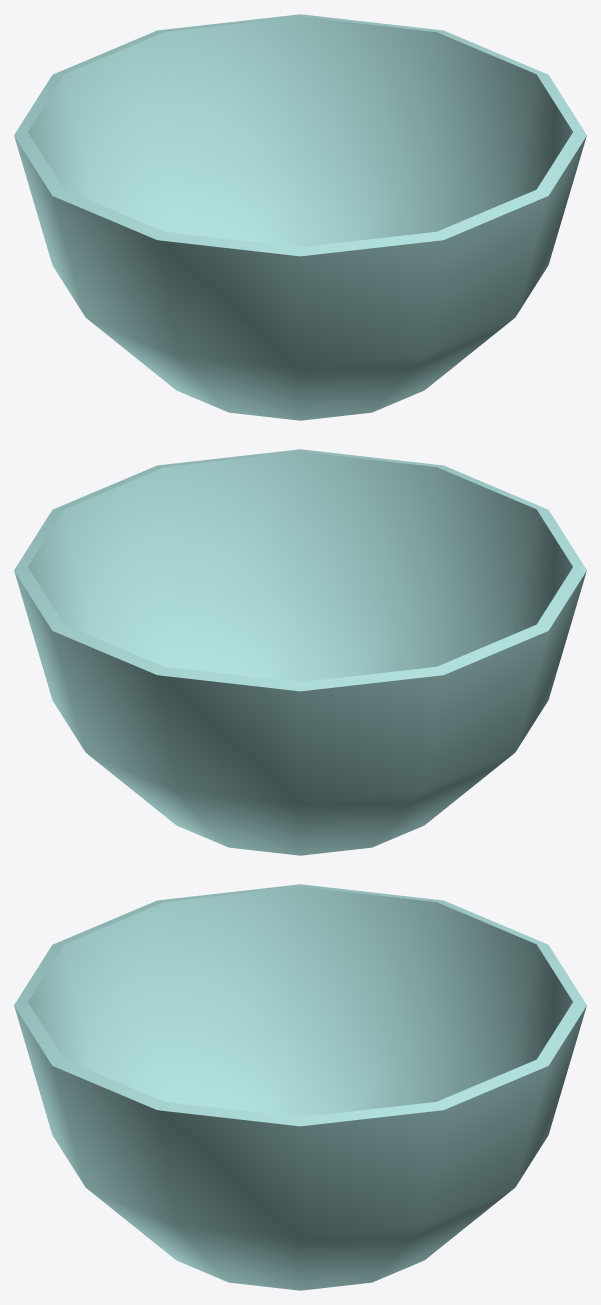
The model's file is WalkerShell.fbx.
3 renders of one model, top to bottom at view 1: azimuth 30°, elevation 25°; view 2: azimuth 150°, elevation 25°; view 3: azimuth 270°, elevation 25°, orthographic.
Parts seen in each view (by area): view 1: Sphere; view 2: Sphere; view 3: Sphere.
Boxes of the visible parts, <box> form: Sphere: <box>14,14,586,420</box>; Sphere: <box>14,449,586,855</box>; Sphere: <box>14,884,586,1290</box>.
Bounding box in the file's own units: 305 × 162 × 305.
